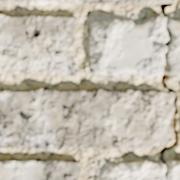brick: (0, 89, 173, 150), (0, 15, 77, 76), (0, 160, 78, 179), (0, 0, 173, 4)
broken_brick: (88, 15, 166, 77), (94, 159, 179, 179), (169, 18, 179, 74)
crack: (158, 2, 179, 177), (14, 14, 62, 60), (19, 120, 37, 147), (0, 132, 4, 149)
